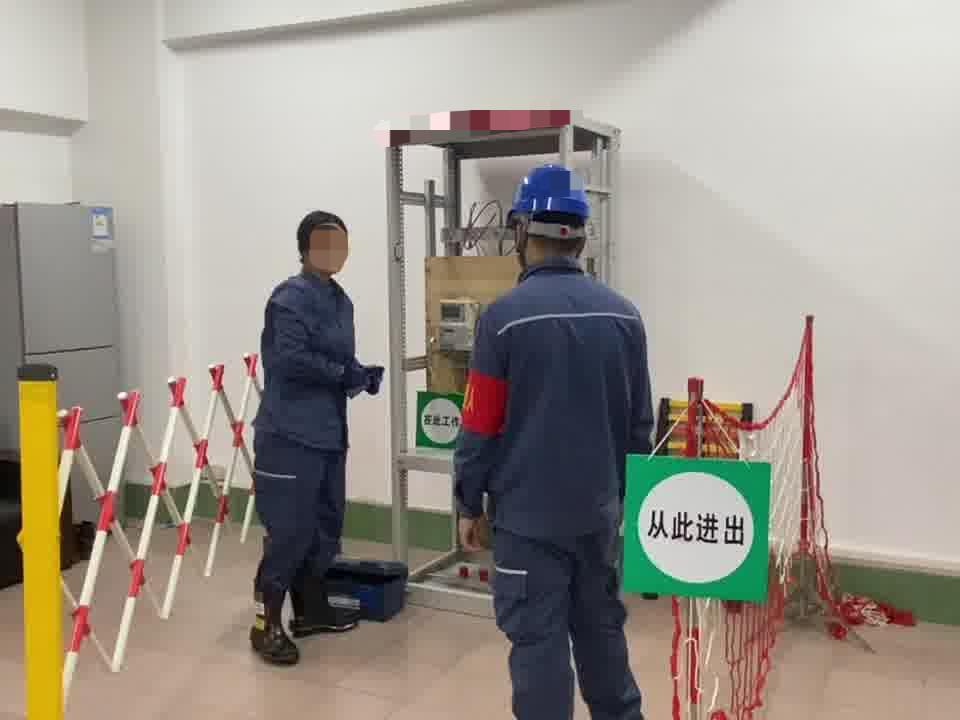halt: (507, 165, 597, 268)
inear: (513, 219, 540, 259)
noear: (300, 239, 319, 266)
unhalt: (297, 211, 357, 279)
